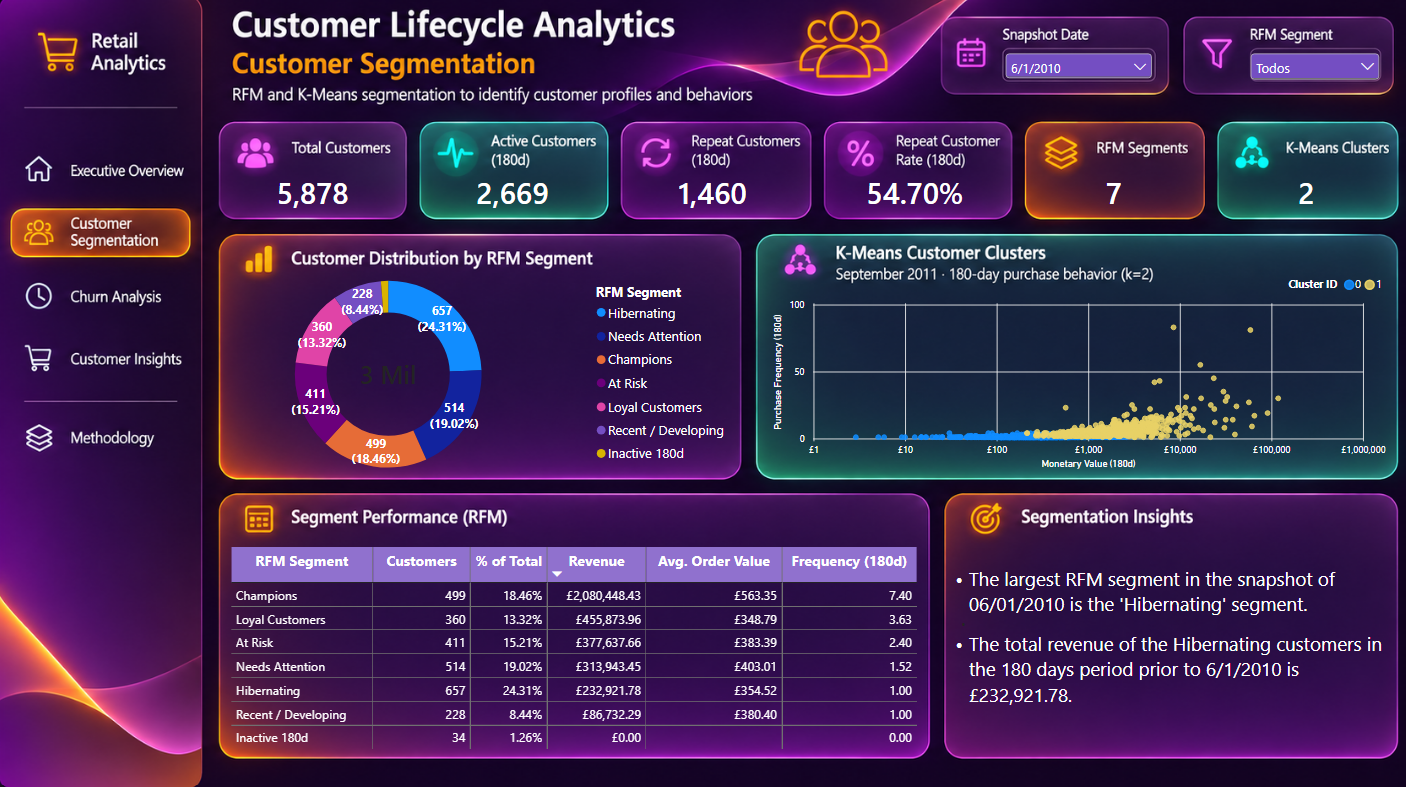

What the dashboard file says about the page in this screenshot:
{"tool":"powerbi","page":{"name":"Customer Segmentation","canvas":[1600,900],"ordinal":1},"visuals":[{"type":"scatterChart","fields":{"Category":["K-Means Customers.customer_id"],"Series":["K-Means Customers.cluster_id"],"X":["Sum(K-Means Customers.monetary_180d)"],"Y":["Sum(K-Means Customers.frequency_180d)"]},"box":[861.7,296.7,726.7,253.3],"z":0},{"type":"cardVisual","fields":{"Data":["Measures-.Total Customers"]},"box":[247.4,187.7,215.7,64.3],"z":1000},{"type":"cardVisual","fields":{"Data":["Measures-.K-Means Clusters Count"]},"box":[1373.9,187.7,215.4,64.1],"z":2000},{"type":"cardVisual","fields":{"Data":["Measures-.Active Customers (180d)"]},"box":[474,187.7,215.7,64.3],"z":3000},{"type":"cardVisual","fields":{"Data":["Measures-.Repeat Customers (180d)"]},"box":[701,187.7,215.7,64.3],"z":4000},{"type":"cardVisual","fields":{"Data":["Measures-.Repeat Customer Rate (180d)"]},"box":[930.5,187.7,215.7,64.3],"z":5000},{"type":"cardVisual","fields":{"Data":["Measures-.RFM Segments Count"]},"box":[1155.8,187.7,215.7,64.3],"z":6000},{"type":"slicer","fields":{"Values":["Dim Snapshot.Snapshot Date"]},"box":[1136.5,57.7,175,39.1],"z":7000},{"type":"slicer","fields":{"Values":["RFM Segments.rfm_segment"]},"box":[1414.3,57.9,155.2,39.3],"z":8000},{"type":"donutChart","fields":{"Category":["RFM Segments.rfm_segment"],"Y":["Measures-.Customers by RFM Segment"]},"box":[190,271.7,656.7,310],"z":9000},{"type":"tableEx","fields":{"Values":["RFM Segments.rfm_segment","Measures-.Customers by RFM Segment","Measures-.RFM Segment Share %","Measures-.RFM Revenue (180d)","Measures-.RFM Avg Order Value (180d)","Measures-.RFM Avg Frequency (180d)"]},"box":[246.7,608.3,816.7,271.7],"z":10000},{"type":"textbox","box":[1081,643.3,493.3,256.7],"z":11000},{"type":"actionButton","box":[25.6,174.9,191.5,33.2],"z":11001},{"type":"actionButton","box":[25.6,324.2,191.5,33.2],"z":11003},{"type":"actionButton","box":[22.6,484.1,179.5,33.2],"z":11004},{"type":"actionButton","box":[25.6,398.1,191.5,33.2],"z":11005}]}

Visuals, with their boxes on the page's 1600x900 design canvas (x1, y1, x2, y2). These are canvas units, not pixel positions in the 1406x787 screenshot, which may show the page scaled, cropped or inside an application window:
scatterChart - K-Means Customers.customer_id x K-Means Customers.cluster_id: (x1=862, y1=297, x2=1588, y2=550)
cardVisual - Measures-.Total Customers: (x1=247, y1=188, x2=463, y2=252)
cardVisual - Measures-.K-Means Clusters Count: (x1=1374, y1=188, x2=1589, y2=252)
cardVisual - Measures-.Active Customers (180d): (x1=474, y1=188, x2=690, y2=252)
cardVisual - Measures-.Repeat Customers (180d): (x1=701, y1=188, x2=917, y2=252)
cardVisual - Measures-.Repeat Customer Rate (180d): (x1=930, y1=188, x2=1146, y2=252)
cardVisual - Measures-.RFM Segments Count: (x1=1156, y1=188, x2=1372, y2=252)
slicer - Dim Snapshot.Snapshot Date: (x1=1136, y1=58, x2=1312, y2=97)
slicer - RFM Segments.rfm_segment: (x1=1414, y1=58, x2=1570, y2=97)
donutChart - RFM Segments.rfm_segment x Measures-.Customers by RFM Segment: (x1=190, y1=272, x2=847, y2=582)
tableEx - RFM Segments.rfm_segment x Measures-.Customers by RFM Segment: (x1=247, y1=608, x2=1063, y2=880)
textbox: (x1=1081, y1=643, x2=1574, y2=900)
actionButton: (x1=26, y1=175, x2=217, y2=208)
actionButton: (x1=26, y1=324, x2=217, y2=357)
actionButton: (x1=23, y1=484, x2=202, y2=517)
actionButton: (x1=26, y1=398, x2=217, y2=431)
